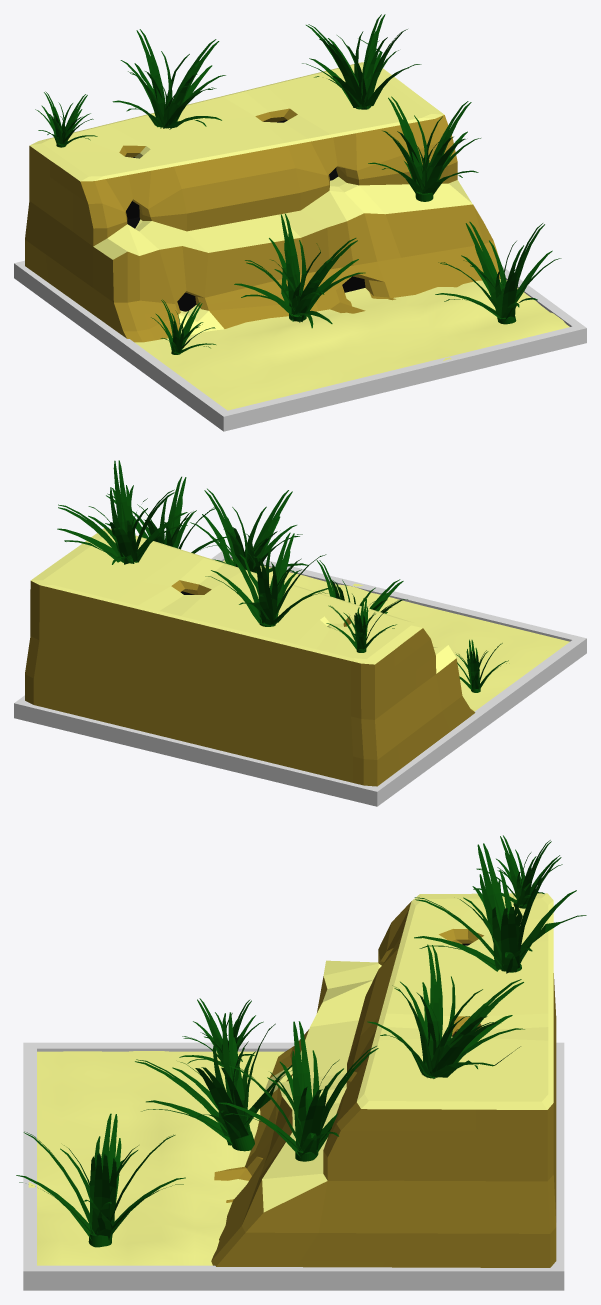
File: Animal Habitat Prarie dog.fbx
3 renders of one model, top to bottom at view 1: azimuth 30°, elevation 25°; view 2: azimuth 150°, elevation 25°; view 3: azimuth 270°, elevation 25°, orthographic. The views are drawn at different scales.
Parts seen in each view (by area): view 1: Cube.001, Plane, Plane.004, Cube, Plane.002, Plane.001, Cube.002; view 2: Cube.001, Cube, Plane.004, Plane, Plane.002, Plane.001; view 3: Cube.001, Plane, Plane.004, Cube, Plane.002, Plane.001.
Part boxes in pixels (x1,y1,x2,y2): Cube.001: (25, 62, 500, 342); Plane: (135, 279, 569, 410); Plane.004: (112, 14, 561, 328); Cube: (14, 260, 586, 431); Plane.002: (35, 91, 97, 147); Plane.001: (151, 299, 215, 354); Cube.002: (126, 120, 365, 311); Cube.001: (25, 528, 475, 786); Cube: (14, 551, 586, 806); Plane.004: (57, 460, 407, 626); Plane: (223, 559, 569, 711); Plane.002: (326, 598, 396, 652); Plane.001: (456, 639, 508, 692); Cube.001: (211, 893, 556, 1267); Plane: (28, 1051, 284, 1265); Plane.004: (16, 843, 586, 1247); Cube: (23, 1042, 564, 1290); Plane.002: (473, 835, 562, 908); Plane.001: (179, 998, 263, 1067).
Bounding box in the file's own units: 6110 × 3467 × 6355.
